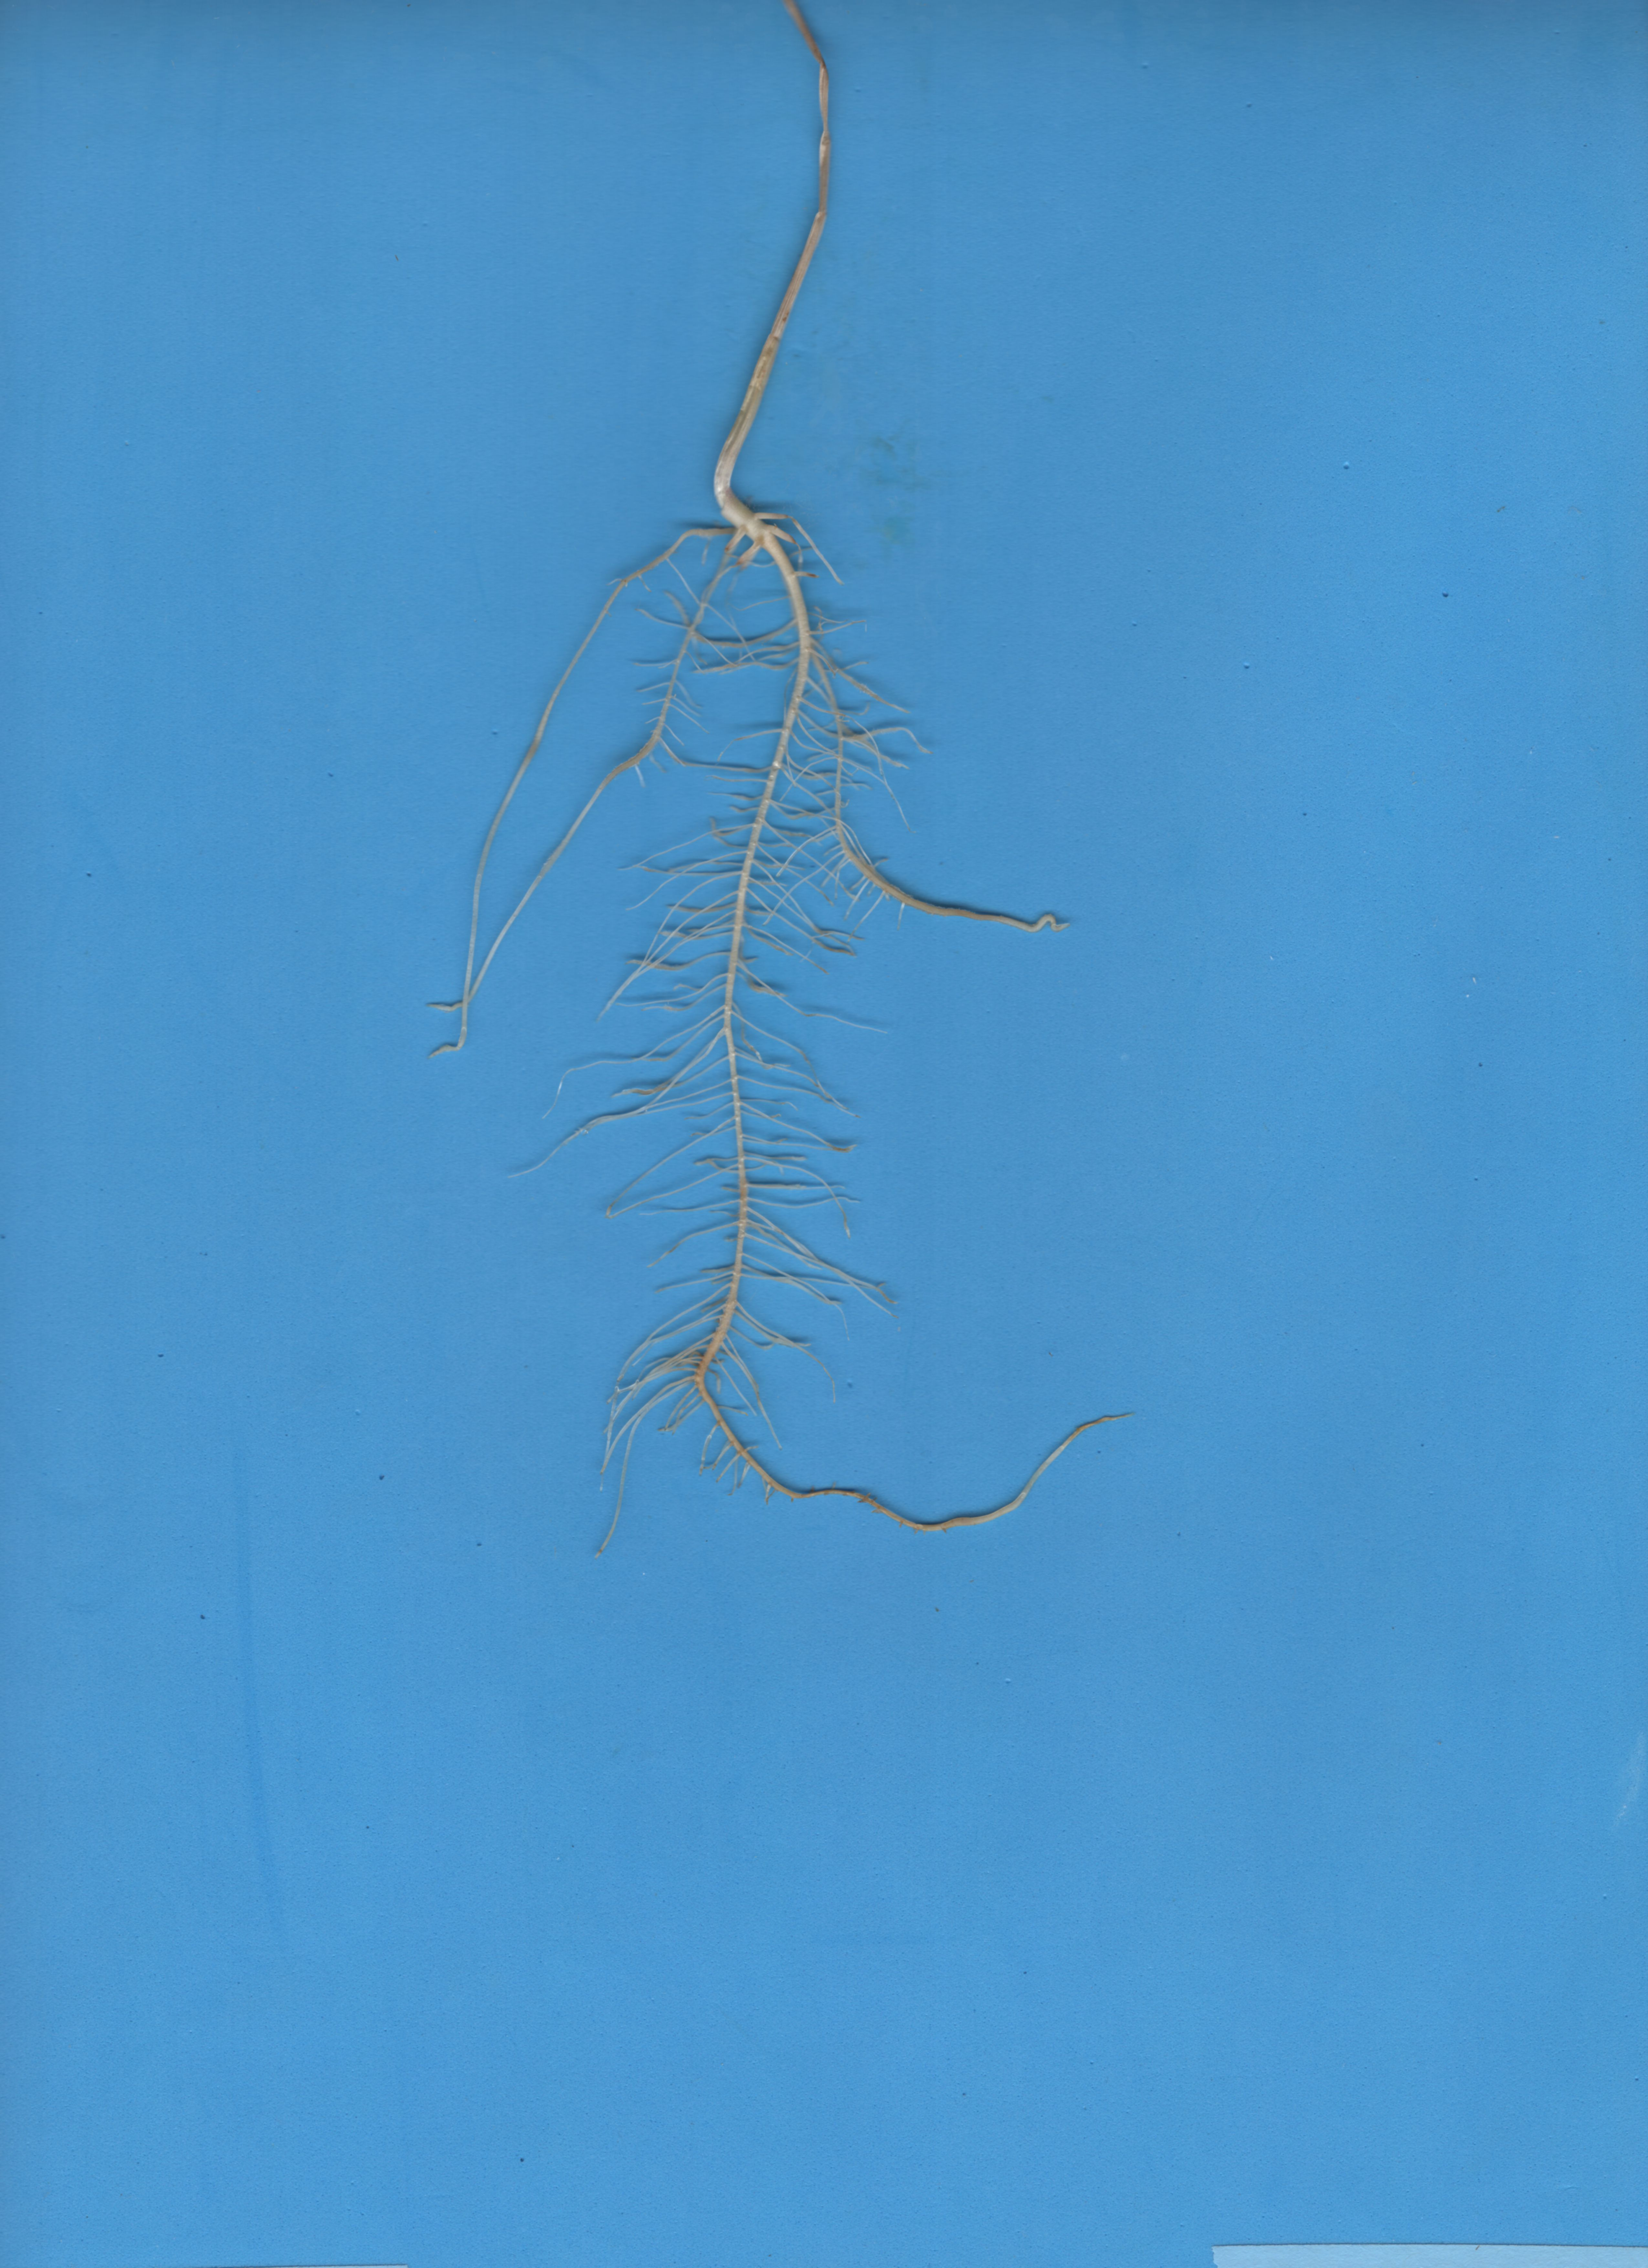CROWNGOOD: (687, 5, 891, 470)
ROOTGOOD: (370, 505, 1203, 1604)
